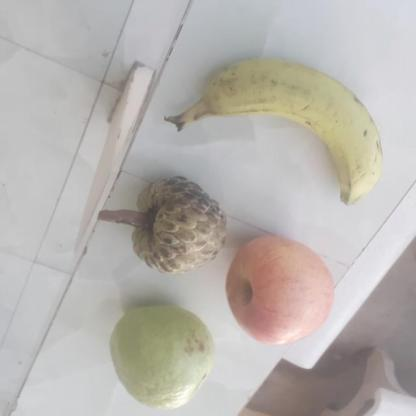annona: (128, 177, 224, 277)
apple: (223, 238, 335, 348)
banana: (173, 57, 381, 202)
guava: (105, 307, 212, 406)
